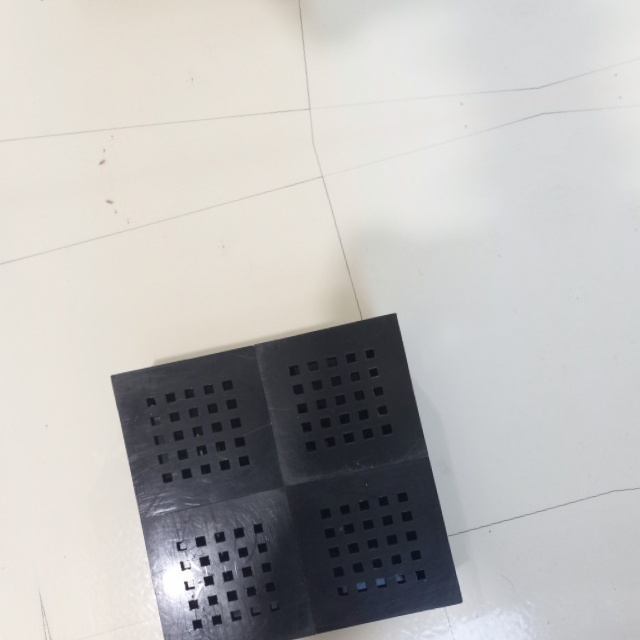pallet: (107, 305, 473, 640)
